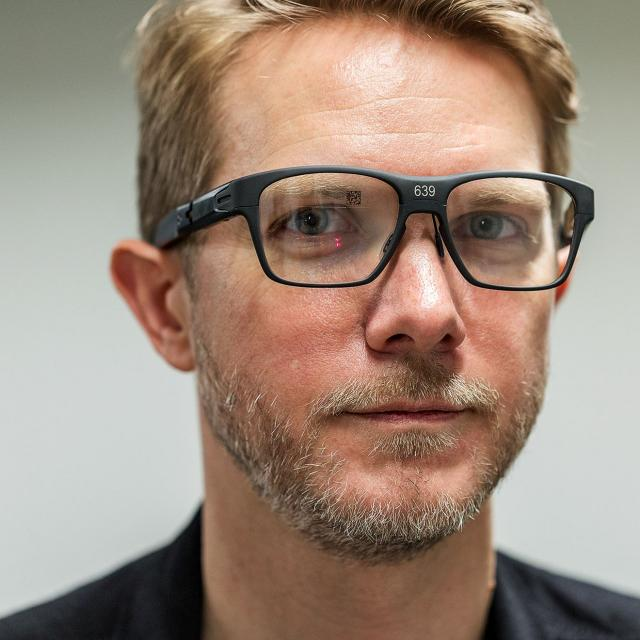Glasses: (149, 162, 601, 296)
